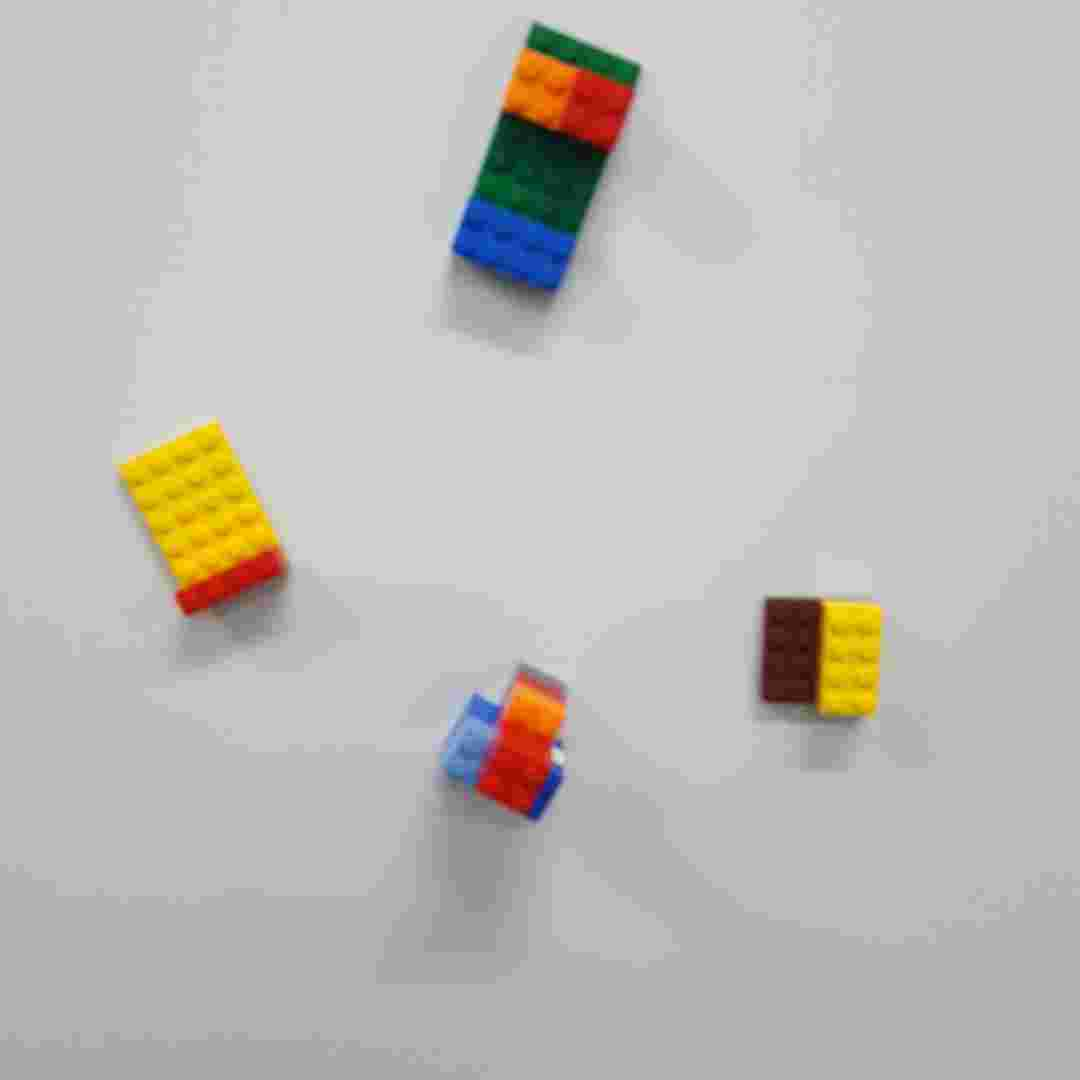LEGO: (449, 20, 645, 300), (119, 418, 290, 619), (437, 661, 575, 830), (752, 592, 886, 724)
